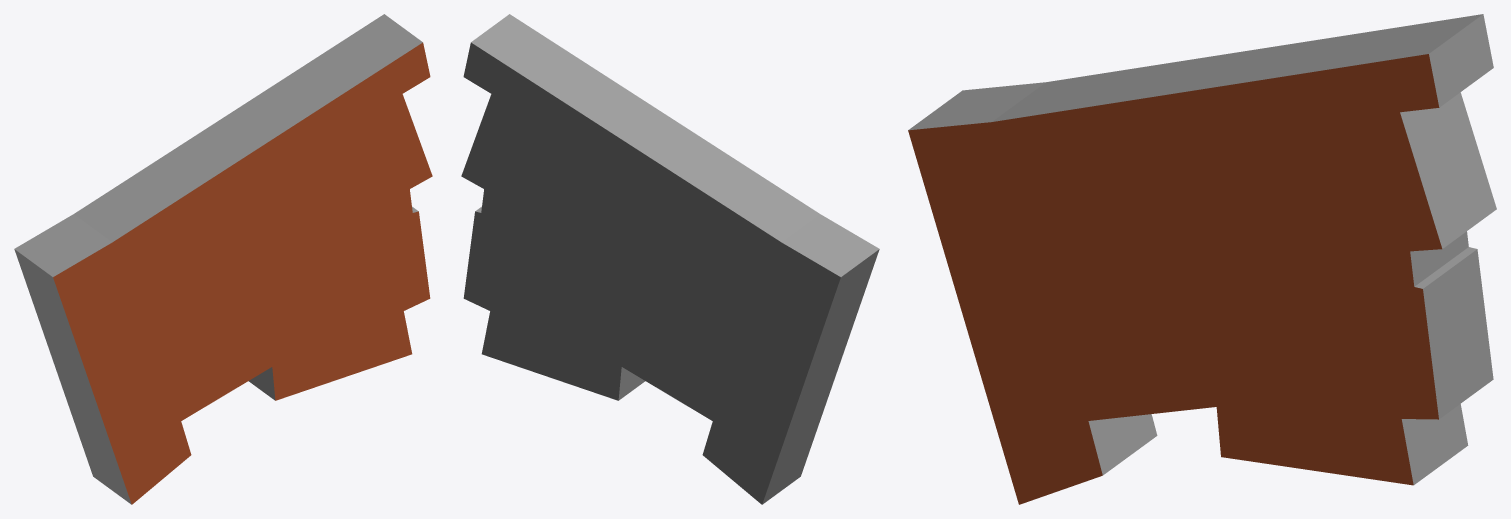
File: construction_6318_assumed_A_Casa_h6m.obj
The picture shows the model from 3 angles, left to right: view 1: azimuth 30°, elevation 25°; view 2: azimuth 150°, elevation 25°; view 3: azimuth 330°, elevation 25°; orthographic projection. The views are drawn at different scales.
Parts seen in each view (by area): view 1: construction_6318_assumed_A_Casa; view 2: construction_6318_assumed_A_Casa; view 3: construction_6318_assumed_A_Casa.
Part boxes in pixels (x1,y1,x2,y2): construction_6318_assumed_A_Casa: [14, 14, 432, 504]; construction_6318_assumed_A_Casa: [461, 14, 879, 504]; construction_6318_assumed_A_Casa: [908, 14, 1496, 504].
Bounding box in the file's own units: 33.94 × 33.44 × 6.
